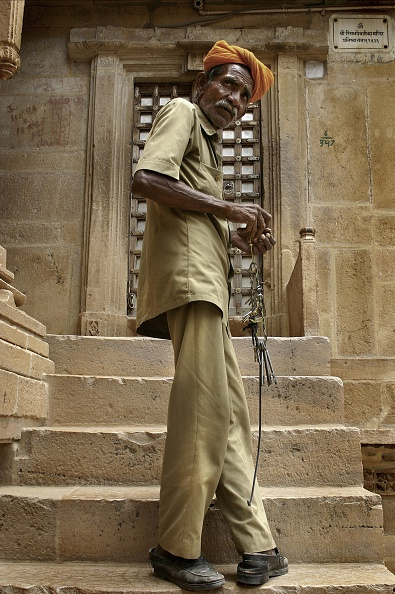em pe: (122, 30, 286, 593)
